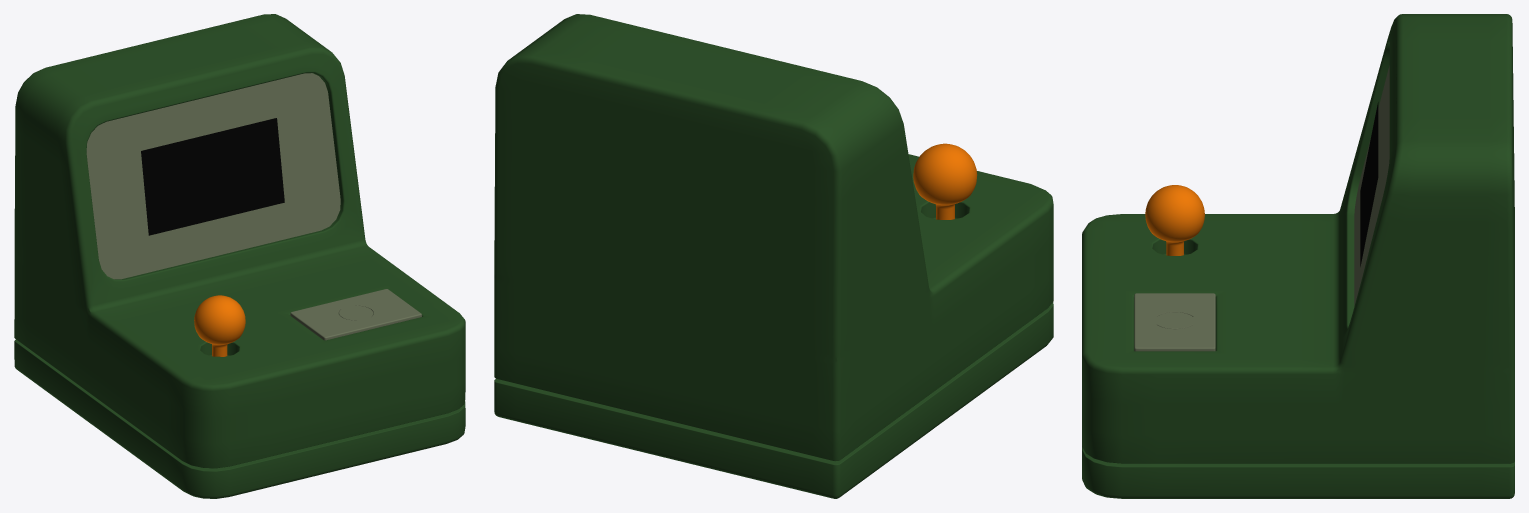
Rendered from Alarm_Clock.glb.
3 renders of one model, left to right at view 1: azimuth 30°, elevation 25°; view 2: azimuth 150°, elevation 25°; view 3: azimuth 270°, elevation 25°, orthographic. The views are drawn at different scales.
Visible parts, largest first — view 1: Alarm Clock_GLB; view 2: Alarm Clock_GLB; view 3: Alarm Clock_GLB.
Boxes of the visible parts, <box> form: Alarm Clock_GLB: <box>14,14,465,498</box>; Alarm Clock_GLB: <box>494,14,1053,498</box>; Alarm Clock_GLB: <box>1082,14,1514,498</box>.
Size of the model in its own units: 0.1803 by 0.1832 by 0.2097.
